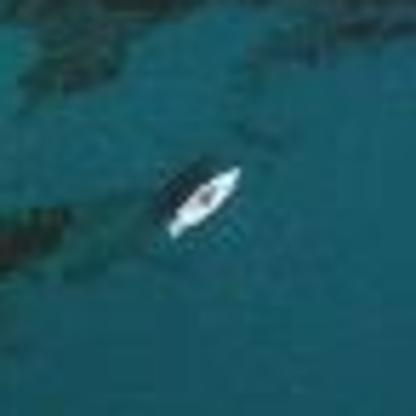ship: (156, 158, 250, 245)
